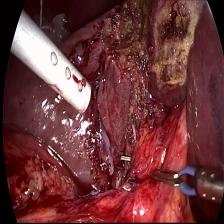Bipolar: (145, 154, 224, 206)
Irrigator: (30, 28, 94, 116)
